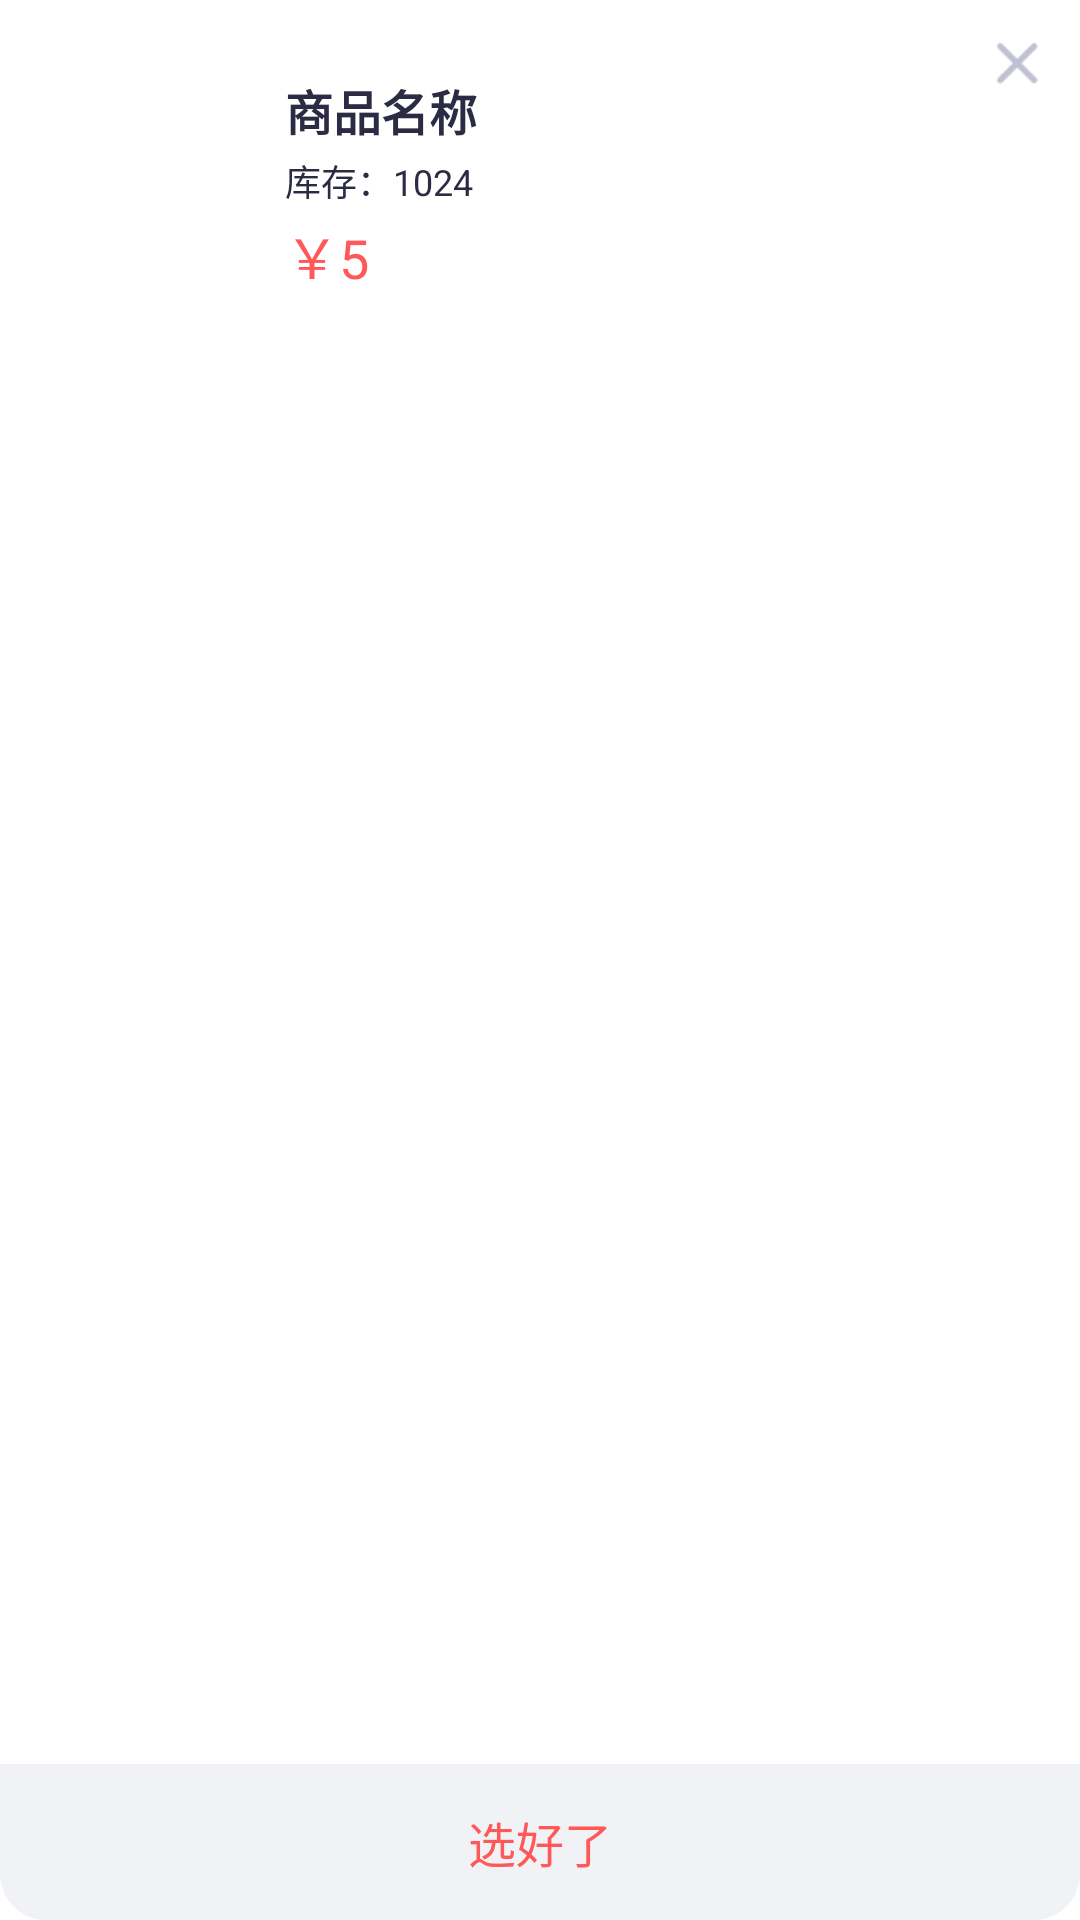

Icon click points for this 1080x1920 phone screenshot, format [x,y]:
close: [1017,63]
